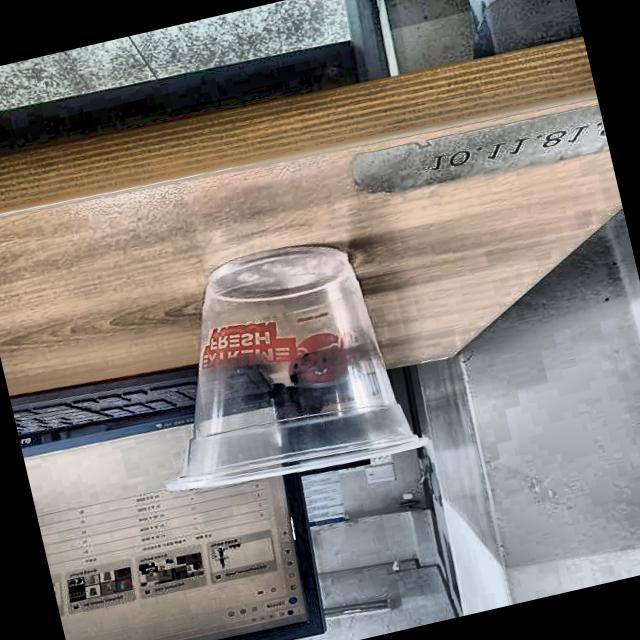plastic cup: (124, 219, 435, 506)
